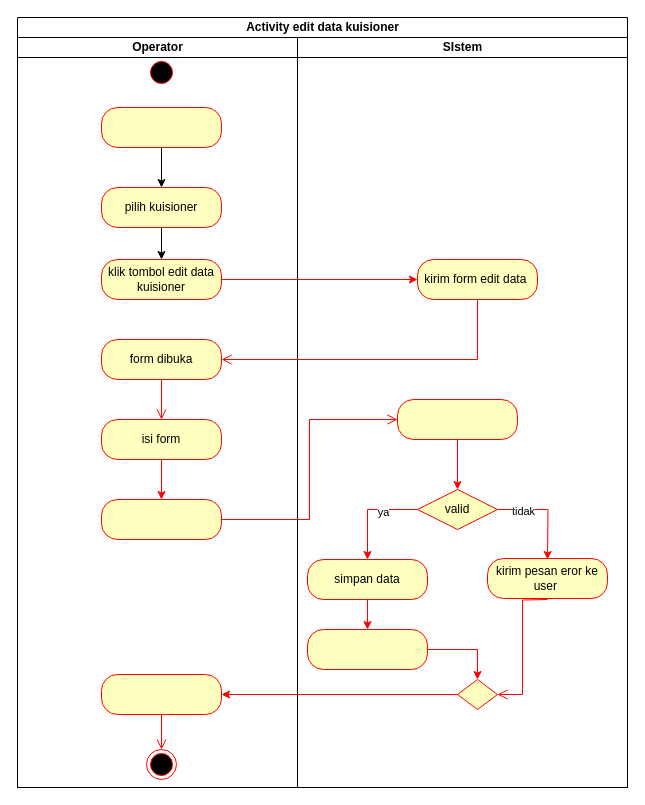
Image size: 645x805. Some labels were removed from this diagram. The centre of each missing label's shape, as x and y in pixels:
"kirim pesan sukses ke user" belongs at (x=367, y=649).
"klik simpan" belongs at (x=161, y=519).
"masuk halaman kusioner" belongs at (x=161, y=127).
"melihat notifikasi" belongs at (x=161, y=694).
"validasi data" belongs at (x=457, y=419).
